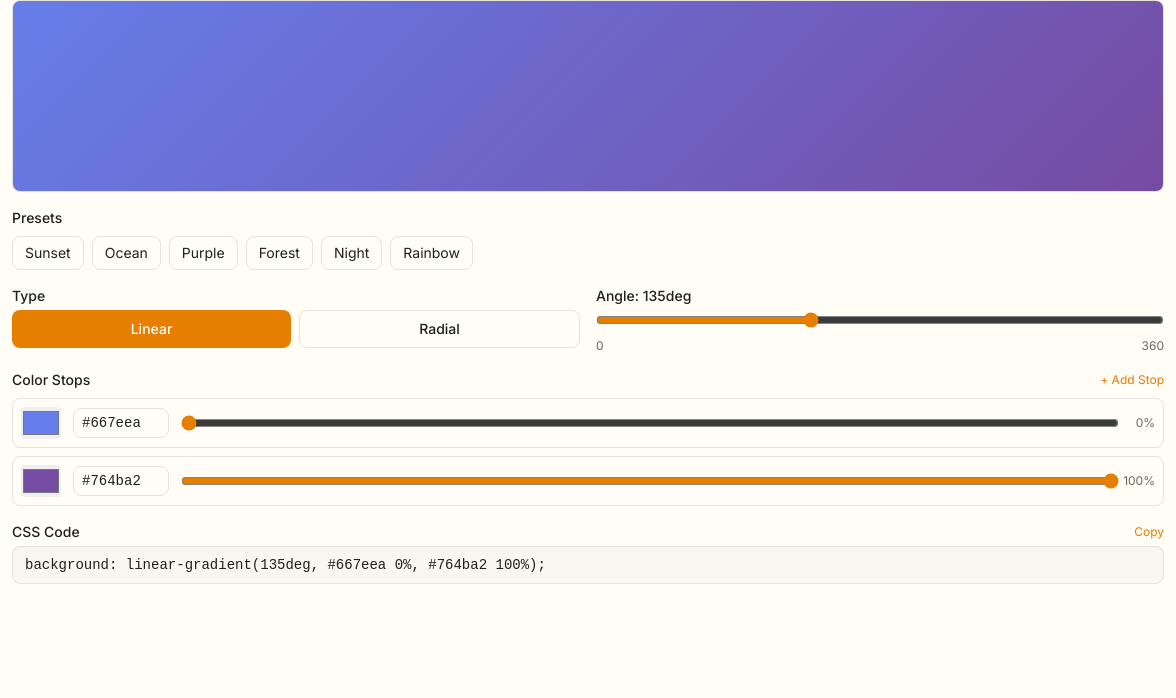
Scenario: GradientGenerator › hides "+ Add Stop" when 6 stops are reached
This screenshot has width=1176, height=698.
Click the button "+ Add Stop". click: click(1132, 380)
box: [1100,372,1164,388]
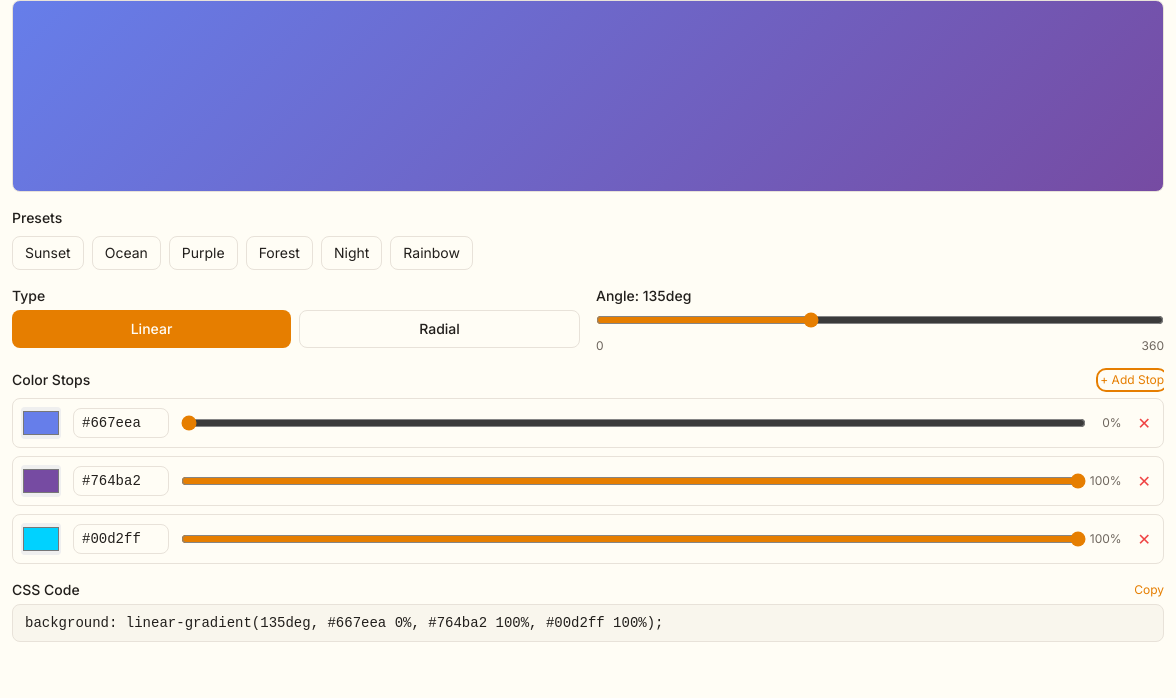
Click the button "+ Add Stop". click: click(1132, 380)
box: [1100,372,1164,388]
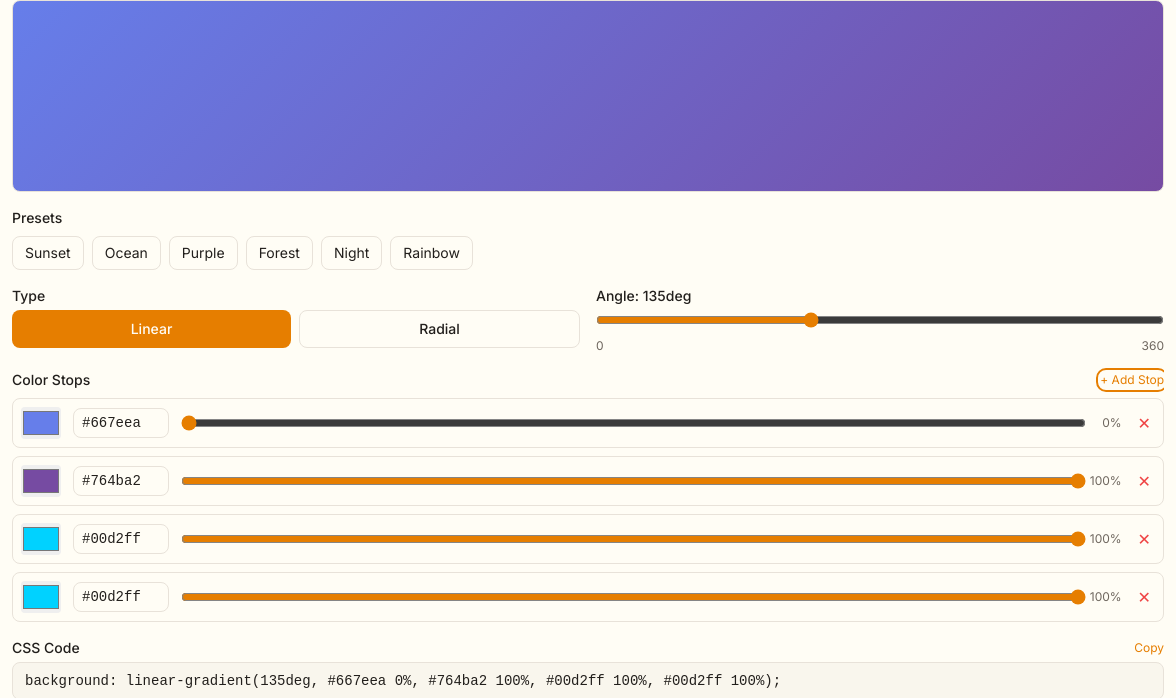
Click the button "+ Add Stop". click: click(1132, 380)
box: [1100,372,1164,388]
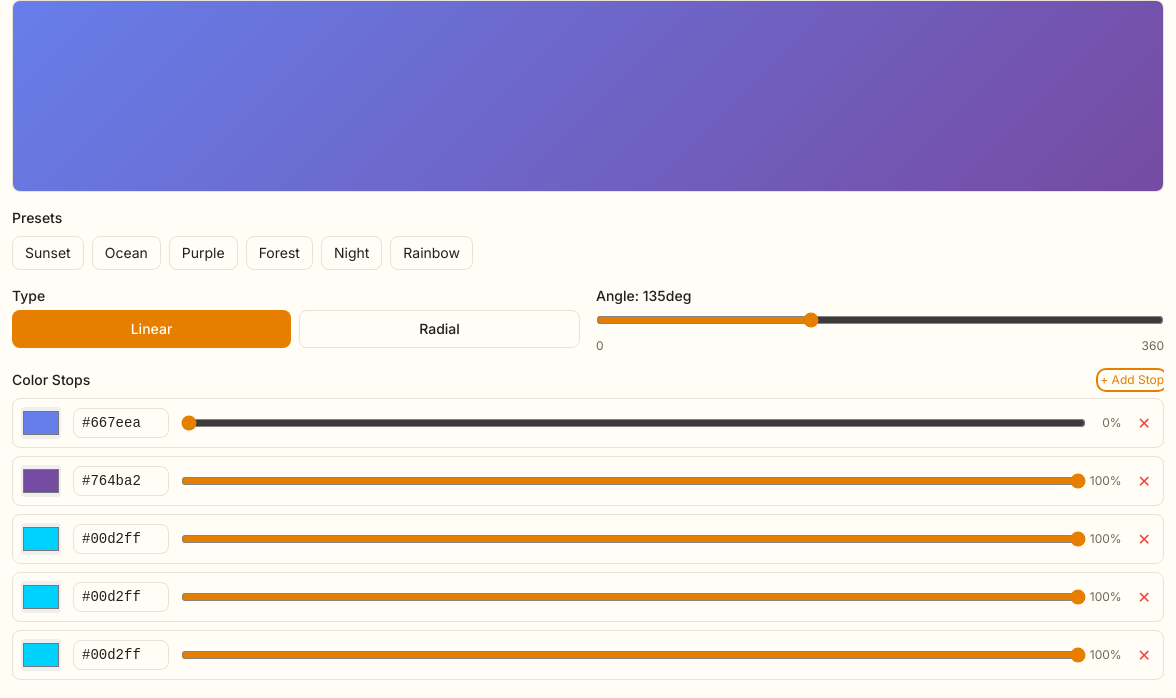
Click the button "+ Add Stop". click: click(1132, 380)
box: [1100,372,1164,388]
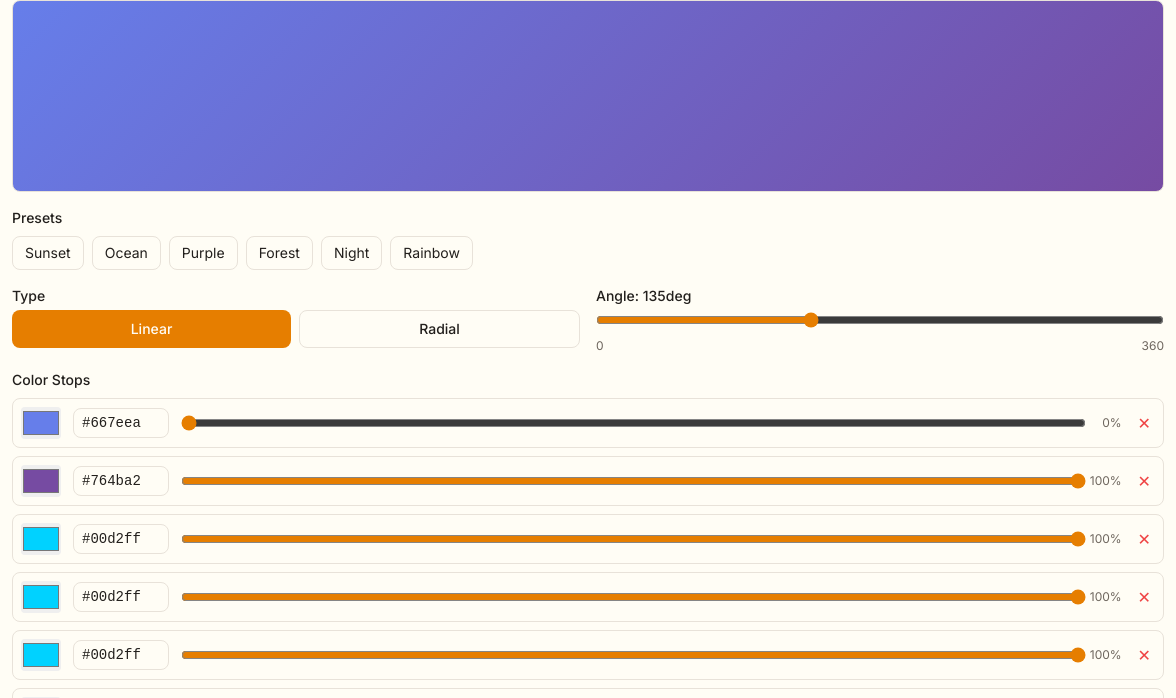
Expected: the button "+ Add Stop" is gone
